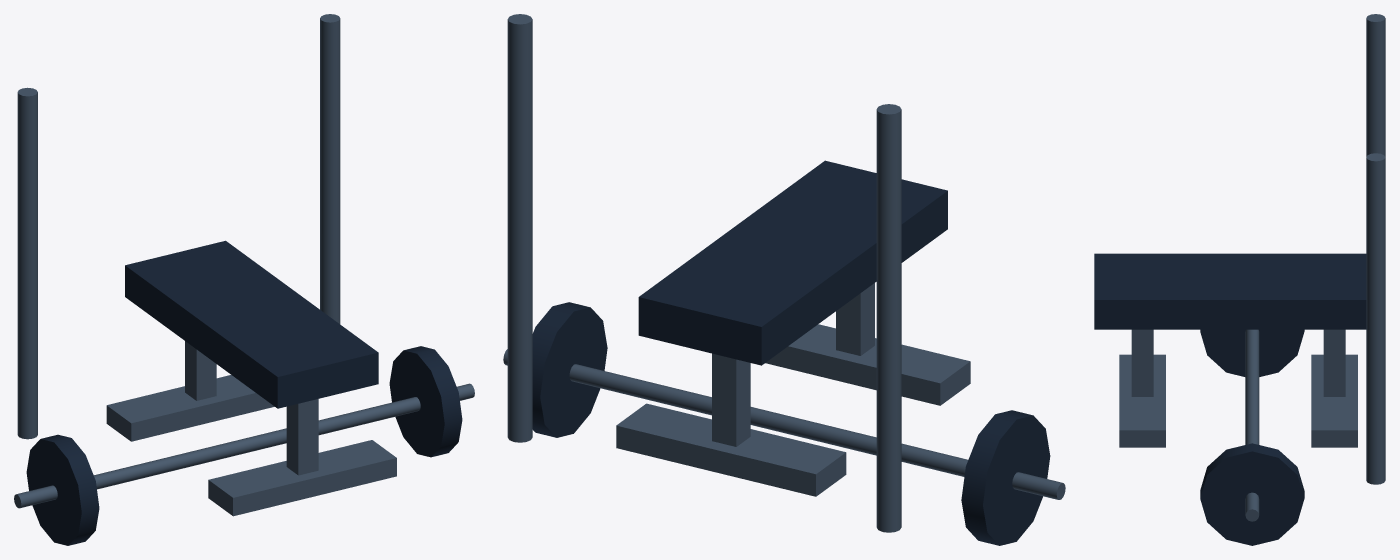
File: flat_bench.glb
3 renders of one model, left to right at view 1: azimuth 30°, elevation 25°; view 2: azimuth 150°, elevation 25°; view 3: azimuth 270°, elevation 25°, orthographic. The views are drawn at different scales.
Visible parts, largest first — view 1: seat, rack (×2), benchFoot (×2), barbell_plate (×2), barbell, benchLeg (×2); view 2: seat, rack (×2), benchFoot (×2), barbell_plate (×2), barbell, benchLeg (×2); view 3: seat, barbell_plate (×2), rack (×2), benchFoot (×2), benchLeg (×2), barbell.
Boxes of the visible parts, left/top/right/bottom form: seat: left=125, top=240, right=378, bottom=408; rack (×2): left=17, top=14, right=340, bottom=439; benchFoot (×2): left=106, top=375, right=396, bottom=516; barbell_plate (×2): left=26, top=346, right=462, bottom=545; barbell: left=14, top=383, right=474, bottom=508; benchLeg (×2): left=185, top=341, right=318, bottom=475; seat: left=638, top=160, right=947, bottom=365; rack (×2): left=507, top=14, right=901, bottom=532; benchFoot (×2): left=616, top=324, right=970, bottom=496; barbell_plate (×2): left=532, top=302, right=1050, bottom=545; barbell: left=503, top=349, right=1065, bottom=499; benchLeg (×2): left=712, top=283, right=874, bottom=446; seat: left=1094, top=253, right=1366, bottom=329; barbell_plate (×2): left=1200, top=329, right=1304, bottom=545; rack (×2): left=1366, top=14, right=1385, bottom=484; benchFoot (×2): left=1119, top=354, right=1357, bottom=447; benchLeg (×2): left=1131, top=329, right=1345, bottom=396; barbell: left=1245, top=329, right=1259, bottom=521.
Bounding box in the file's own units: 1.8 × 1.49 × 1.06.
